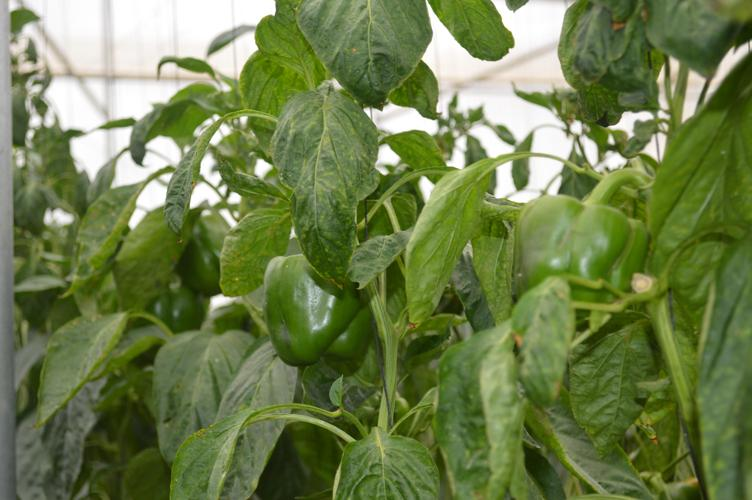BellPepper: (506, 196, 642, 297), (256, 260, 373, 363), (176, 212, 230, 291), (145, 291, 204, 333)
